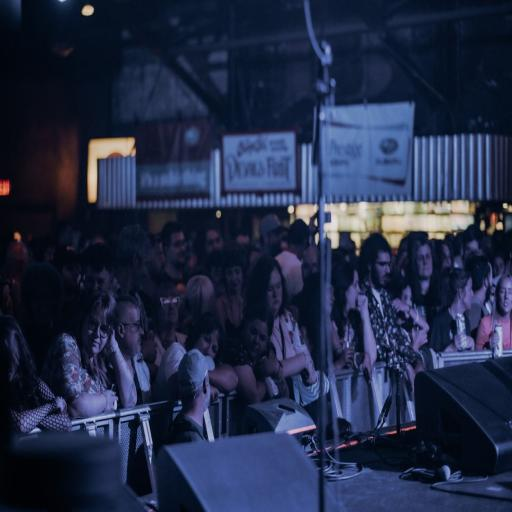face: (82, 307, 111, 357), (117, 303, 143, 357), (244, 319, 268, 359), (157, 290, 179, 329), (370, 251, 390, 289), (165, 232, 186, 268), (194, 330, 219, 359), (267, 269, 282, 317), (84, 266, 111, 292), (133, 254, 151, 290), (301, 246, 319, 282), (416, 244, 433, 280), (496, 277, 511, 316), (346, 271, 360, 310), (150, 242, 165, 275), (225, 266, 242, 294), (265, 230, 283, 256), (205, 229, 223, 254), (461, 278, 473, 310), (441, 244, 452, 268)
